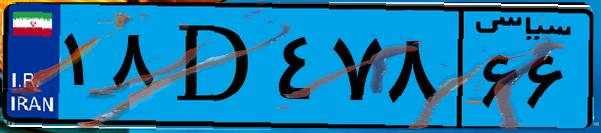1: (57, 26, 110, 100)
4: (270, 28, 330, 110)
6: (475, 38, 525, 113), (525, 38, 570, 115)
7: (330, 28, 385, 110)
8: (385, 28, 445, 110), (110, 28, 158, 98)
D: (158, 12, 270, 120)
